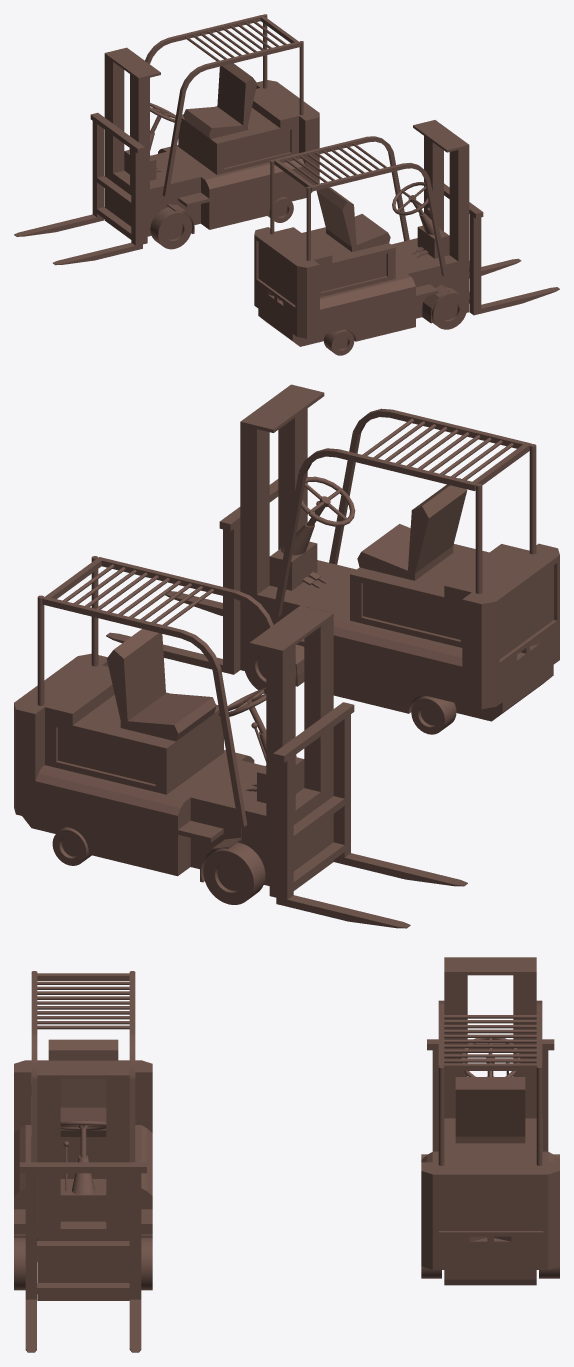
Rendered from GCC-AAV-13220-30.nwd(17).fbx.
3 renders of one model, top to bottom at view 1: azimuth 30°, elevation 25°; view 2: azimuth 150°, elevation 25°; view 3: azimuth 270°, elevation 25°, orthographic. The views are drawn at different scales.
Visible parts, largest first — view 1: EXTRUSION 3 of EQUIPMENT 46 of ZONE /13220-10-5201/ME/GT, EXTRUSION 3 of EQUIPMENT 38 of ZONE /13220-10-5201/ME/GT, BOX 5 of EQUIPMENT 46 of ZONE /13220-10-5201/ME/GT, BOX 5 of EQUIPMENT 38 of ZONE /13220-10-5201/ME/GT, EXTRUSION 2 of EQUIPMENT 46 of ZONE /13220-10-5201/ME/GT, EXTRUSION 1 of EQUIPMENT 38 of ZONE /13220-10-5201/ME/GT, EXTRUSION 5 of EQUIPMENT 38 of ZONE /13220-10-5201/ME/GT, EXTRUSION 2 of EQUIPMENT 38 of ZONE /13220-10-5201/ME/GT, BOX 4 of EQUIPMENT 38 of ZONE /13220-10-5201/ME/GT, EXTRUSION 5 of EQUIPMENT 46 of ZONE /13220-10-5201/ME/GT, CYLINDER 3 of EQUIPMENT 38 of ZONE /13220-10-5201/ME/GT, EXTRUSION 4 of EQUIPMENT 38 of ZONE /13220-10-5201/ME/GT (+16 smaller); view 2: EXTRUSION 3 of EQUIPMENT 38 of ZONE /13220-10-5201/ME/GT, EXTRUSION 3 of EQUIPMENT 46 of ZONE /13220-10-5201/ME/GT, BOX 4 of EQUIPMENT 46 of ZONE /13220-10-5201/ME/GT, BOX 4 of EQUIPMENT 38 of ZONE /13220-10-5201/ME/GT, EXTRUSION 2 of EQUIPMENT 38 of ZONE /13220-10-5201/ME/GT, EXTRUSION 5 of EQUIPMENT 38 of ZONE /13220-10-5201/ME/GT, BOX 5 of EQUIPMENT 38 of ZONE /13220-10-5201/ME/GT, EXTRUSION 1 of EQUIPMENT 38 of ZONE /13220-10-5201/ME/GT, EXTRUSION 5 of EQUIPMENT 46 of ZONE /13220-10-5201/ME/GT, EXTRUSION 1 of EQUIPMENT 46 of ZONE /13220-10-5201/ME/GT, CYLINDER 4 of EQUIPMENT 38 of ZONE /13220-10-5201/ME/GT, EXTRUSION 4 of EQUIPMENT 38 of ZONE /13220-10-5201/ME/GT (+23 smaller); view 3: EXTRUSION 3 of EQUIPMENT 38 of ZONE /13220-10-5201/ME/GT, EXTRUSION 3 of EQUIPMENT 46 of ZONE /13220-10-5201/ME/GT, EXTRUSION 5 of EQUIPMENT 38 of ZONE /13220-10-5201/ME/GT, BOX 4 of EQUIPMENT 46 of ZONE /13220-10-5201/ME/GT, BOX 5 of EQUIPMENT 46 of ZONE /13220-10-5201/ME/GT, EXTRUSION 5 of EQUIPMENT 46 of ZONE /13220-10-5201/ME/GT, EXTRUSION 1 of EQUIPMENT 46 of ZONE /13220-10-5201/ME/GT, EXTRUSION 2 of EQUIPMENT 46 of ZONE /13220-10-5201/ME/GT, BOX 5 of EQUIPMENT 38 of ZONE /13220-10-5201/ME/GT, BOX 4 of EQUIPMENT 38 of ZONE /13220-10-5201/ME/GT, BOX 6 of EQUIPMENT 38 of ZONE /13220-10-5201/ME/GT, BOX 6 of EQUIPMENT 46 of ZONE /13220-10-5201/ME/GT (+17 smaller).
Boxes of the visible parts, bbox=[...] form: EXTRUSION 3 of EQUIPMENT 46 of ZONE /13220-10-5201/ME/GT: bbox=[254, 227, 469, 346]; EXTRUSION 3 of EQUIPMENT 38 of ZONE /13220-10-5201/ME/GT: bbox=[104, 80, 319, 244]; BOX 5 of EQUIPMENT 46 of ZONE /13220-10-5201/ME/GT: bbox=[449, 147, 469, 261]; BOX 5 of EQUIPMENT 38 of ZONE /13220-10-5201/ME/GT: bbox=[104, 56, 124, 173]; EXTRUSION 2 of EQUIPMENT 46 of ZONE /13220-10-5201/ME/GT: bbox=[469, 214, 559, 315]; EXTRUSION 1 of EQUIPMENT 38 of ZONE /13220-10-5201/ME/GT: bbox=[53, 149, 142, 265]; EXTRUSION 5 of EQUIPMENT 38 of ZONE /13220-10-5201/ME/GT: bbox=[217, 63, 257, 125]; EXTRUSION 2 of EQUIPMENT 38 of ZONE /13220-10-5201/ME/GT: bbox=[14, 121, 104, 236]; BOX 4 of EQUIPMENT 38 of ZONE /13220-10-5201/ME/GT: bbox=[130, 74, 149, 190]; EXTRUSION 5 of EQUIPMENT 46 of ZONE /13220-10-5201/ME/GT: bbox=[316, 183, 356, 246]; CYLINDER 3 of EQUIPMENT 38 of ZONE /13220-10-5201/ME/GT: bbox=[150, 207, 192, 249]; EXTRUSION 4 of EQUIPMENT 38 of ZONE /13220-10-5201/ME/GT: bbox=[183, 106, 247, 138]; EXTRUSION 3 of EQUIPMENT 38 of ZONE /13220-10-5201/ME/GT: bbox=[14, 653, 333, 897]; EXTRUSION 3 of EQUIPMENT 46 of ZONE /13220-10-5201/ME/GT: bbox=[240, 543, 559, 721]; BOX 4 of EQUIPMENT 46 of ZONE /13220-10-5201/ME/GT: bbox=[240, 425, 269, 594]; BOX 4 of EQUIPMENT 38 of ZONE /13220-10-5201/ME/GT: bbox=[304, 617, 333, 791]; EXTRUSION 2 of EQUIPMENT 38 of ZONE /13220-10-5201/ME/GT: bbox=[276, 756, 410, 928]; EXTRUSION 5 of EQUIPMENT 38 of ZONE /13220-10-5201/ME/GT: bbox=[106, 629, 165, 721]; BOX 5 of EQUIPMENT 38 of ZONE /13220-10-5201/ME/GT: bbox=[266, 645, 295, 818]; EXTRUSION 1 of EQUIPMENT 38 of ZONE /13220-10-5201/ME/GT: bbox=[333, 714, 467, 886]; EXTRUSION 5 of EQUIPMENT 46 of ZONE /13220-10-5201/ME/GT: bbox=[408, 478, 467, 573]; EXTRUSION 1 of EQUIPMENT 46 of ZONE /13220-10-5201/ME/GT: bbox=[106, 524, 240, 674]; CYLINDER 4 of EQUIPMENT 38 of ZONE /13220-10-5201/ME/GT: bbox=[203, 842, 265, 904]; EXTRUSION 4 of EQUIPMENT 38 of ZONE /13220-10-5201/ME/GT: bbox=[120, 693, 216, 741]; EXTRUSION 3 of EQUIPMENT 38 of ZONE /13220-10-5201/ME/GT: bbox=[421, 1118, 559, 1285]; EXTRUSION 3 of EQUIPMENT 46 of ZONE /13220-10-5201/ME/GT: bbox=[14, 1060, 152, 1300]; EXTRUSION 5 of EQUIPMENT 38 of ZONE /13220-10-5201/ME/GT: bbox=[455, 1077, 525, 1136]; BOX 4 of EQUIPMENT 46 of ZONE /13220-10-5201/ME/GT: bbox=[106, 1078, 129, 1228]; BOX 5 of EQUIPMENT 46 of ZONE /13220-10-5201/ME/GT: bbox=[37, 1078, 60, 1228]; EXTRUSION 5 of EQUIPMENT 46 of ZONE /13220-10-5201/ME/GT: bbox=[48, 1039, 118, 1107]; EXTRUSION 1 of EQUIPMENT 46 of ZONE /13220-10-5201/ME/GT: bbox=[129, 1173, 141, 1352]; EXTRUSION 2 of EQUIPMENT 46 of ZONE /13220-10-5201/ME/GT: bbox=[25, 1173, 36, 1352]; BOX 5 of EQUIPMENT 38 of ZONE /13220-10-5201/ME/GT: bbox=[513, 975, 536, 1118]; BOX 4 of EQUIPMENT 38 of ZONE /13220-10-5201/ME/GT: bbox=[444, 975, 467, 1118]; BOX 6 of EQUIPMENT 38 of ZONE /13220-10-5201/ME/GT: bbox=[444, 957, 536, 975]; BOX 6 of EQUIPMENT 46 of ZONE /13220-10-5201/ME/GT: bbox=[37, 1060, 129, 1078].
Bounding box in the file's own units: 187 × 86.42 × 185.
